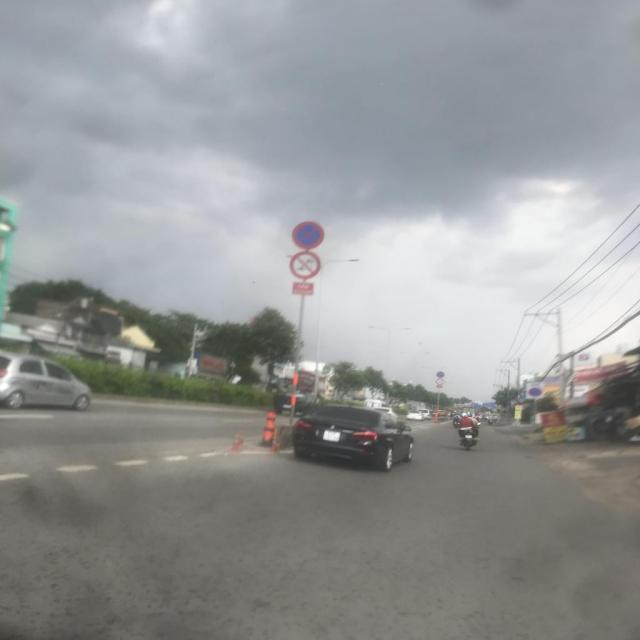130-cam-dung-va-do-xe: (290, 220, 324, 250)
